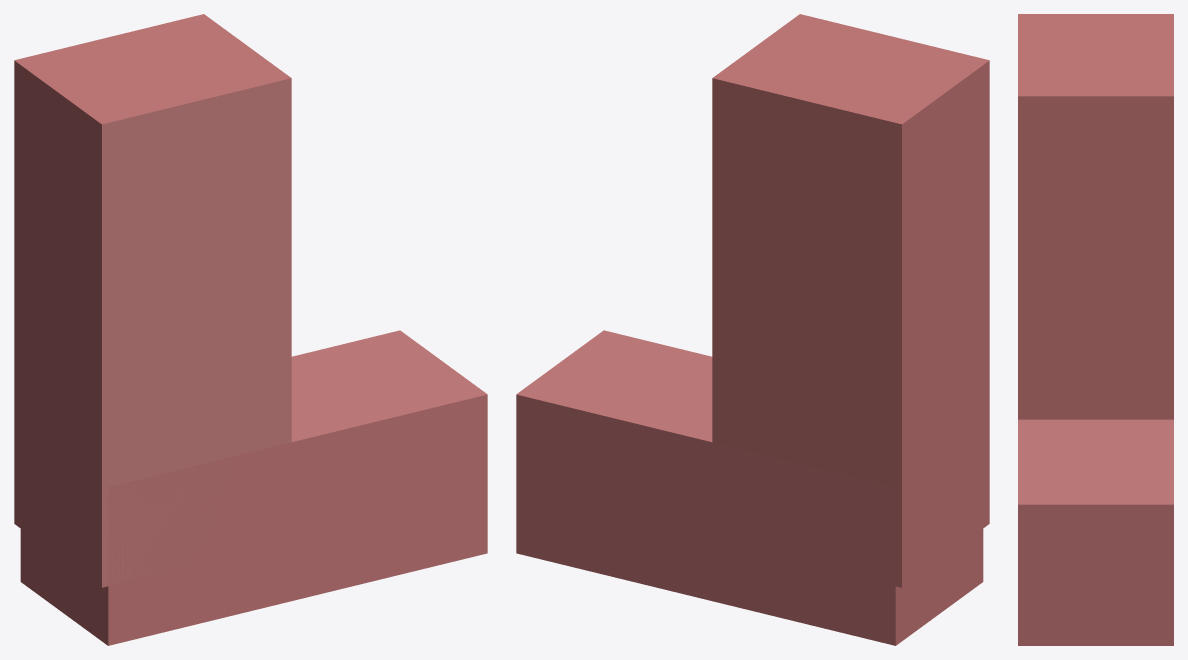
The model's file is col_sock.glb.
3 views of the same model, side by side, from view 1: azimuth 30°, elevation 25°; view 2: azimuth 150°, elevation 25°; view 3: azimuth 270°, elevation 25° (orthographic). The views are drawn at different scales.
Parts seen in each view (by area): view 1: col_sock2; view 2: col_sock2; view 3: col_sock2.
Part boxes in pixels (left/top/right/bottom): col_sock2: left=14, top=14, right=487, bottom=645; col_sock2: left=516, top=14, right=989, bottom=645; col_sock2: left=1018, top=14, right=1173, bottom=645.
Bounding box in the file's own units: 0.305 × 0.395 × 0.12.
